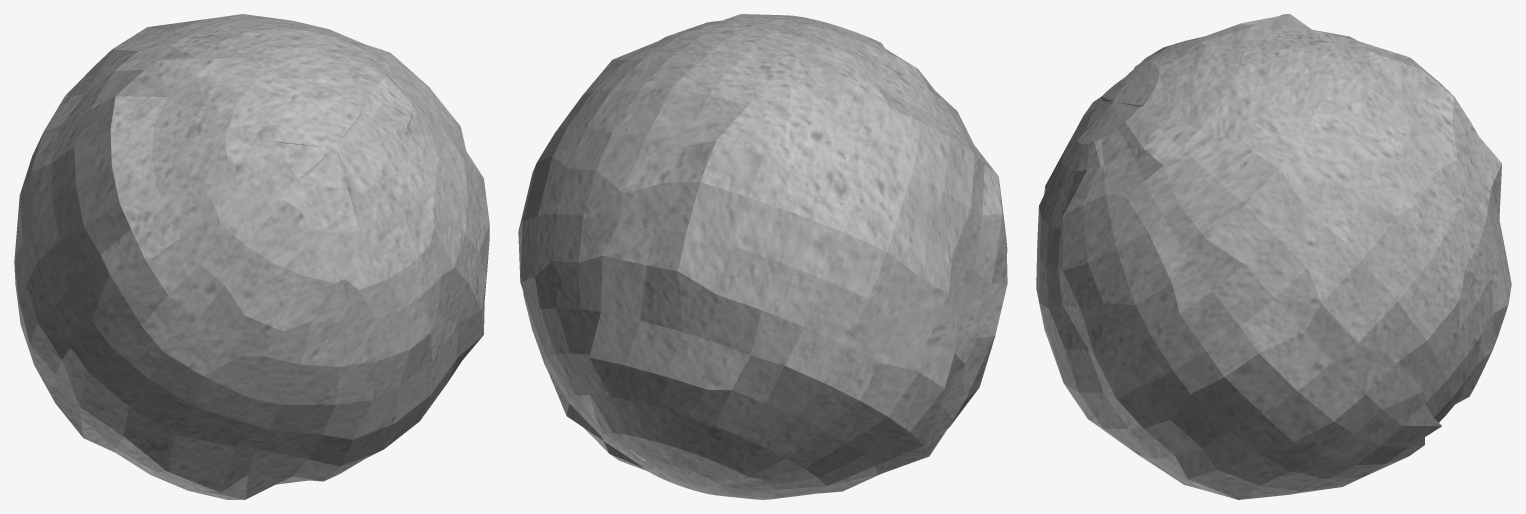
Rendered from menumoon.fbx.
3 views of the same model, side by side, from view 1: azimuth 30°, elevation 25°; view 2: azimuth 150°, elevation 25°; view 3: azimuth 270°, elevation 25° (orthographic). The views are drawn at different scales.
Visible parts, largest first — view 1: Sphere; view 2: Sphere; view 3: Sphere.
Part boxes in pixels (x1=…): Sphere: x1=14, y1=14, x2=489, y2=499; Sphere: x1=518, y1=14, x2=1007, y2=499; Sphere: x1=1036, y1=14, x2=1511, y2=499.
Bounding box in the file's own units: 204 × 203 × 203.
